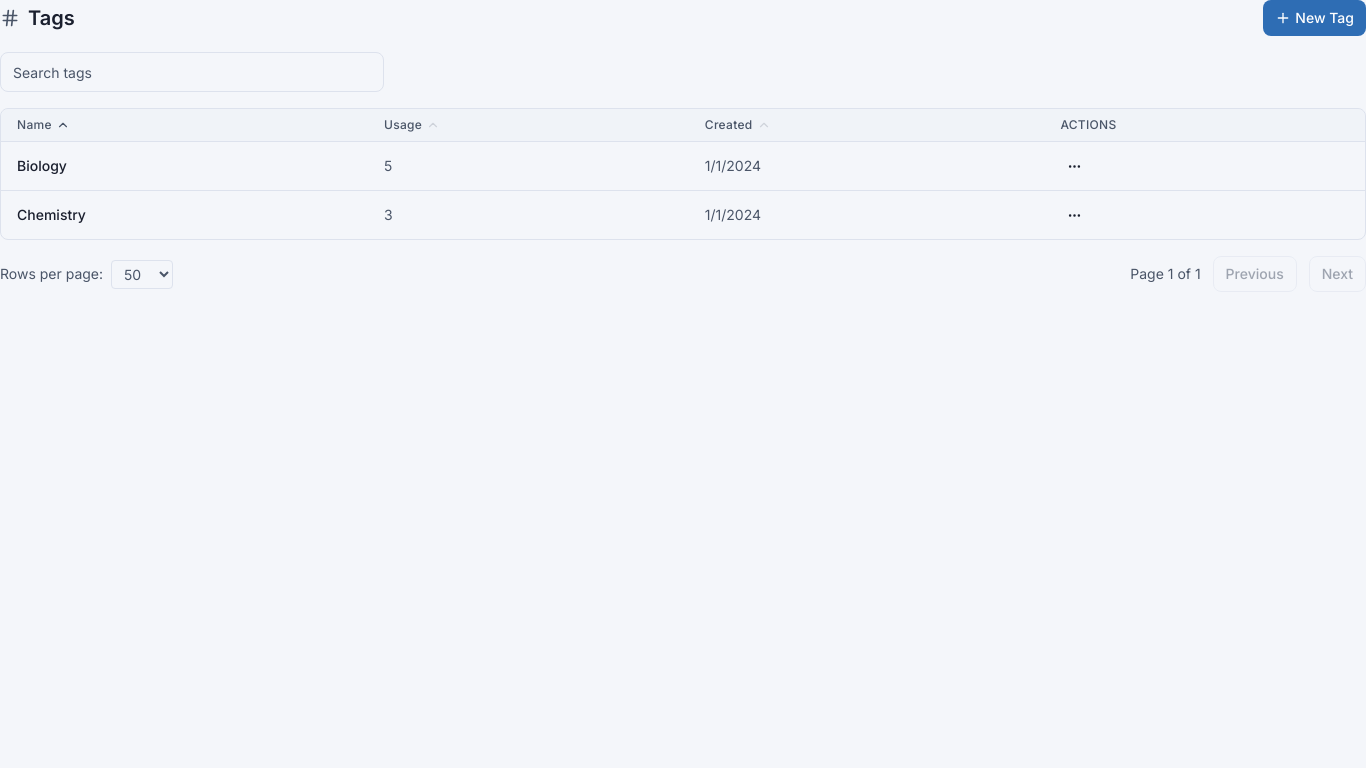
TagsPage › shows inline form error for ERR_TAG_DUPLICATE on rename
Expected: the text "Biology" is shown, top-left (1, 142), bottom-right (368, 190)
# Open actions menu
Click the button named "actions" in the row of "Biology". click: [1074, 166]
box: top-left (1060, 152), bottom-right (1088, 180)
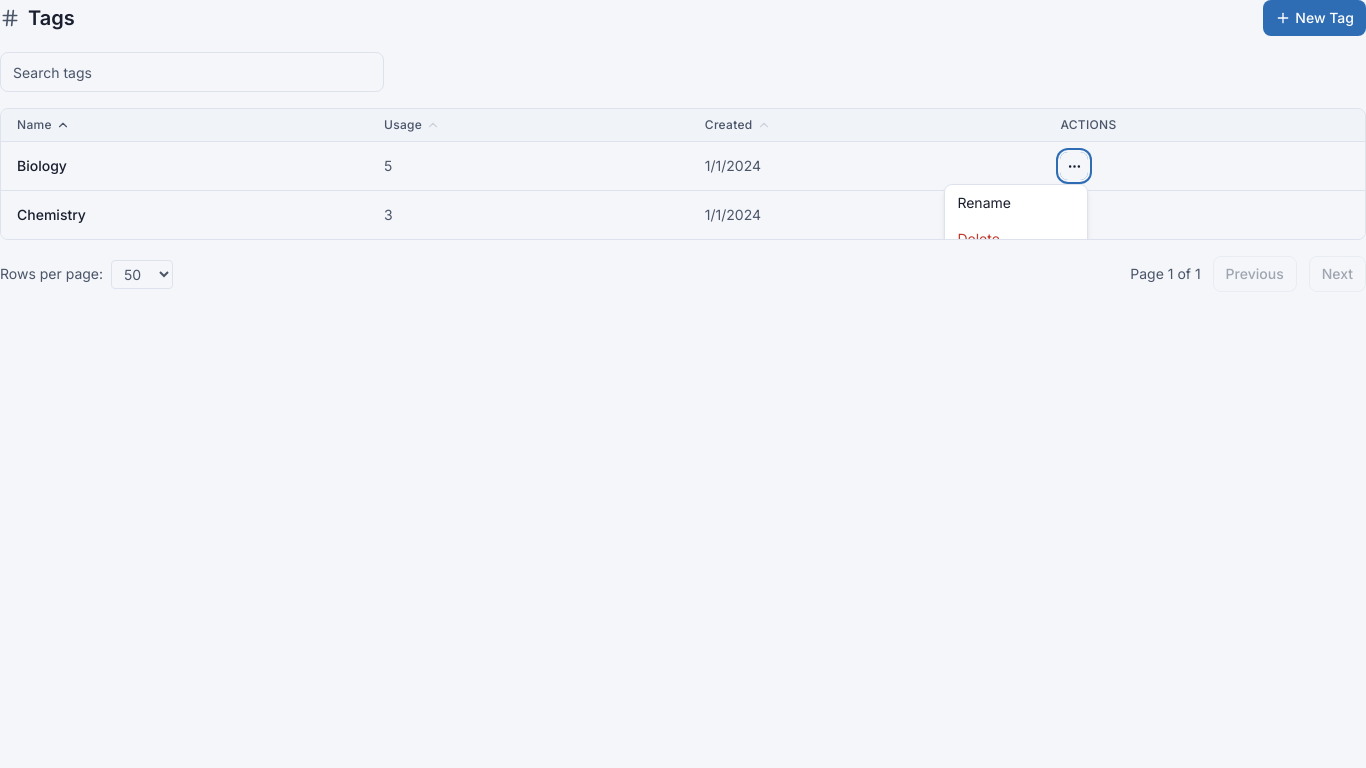
# Click Rename
Click the button "Rename". click: [1016, 203]
box: top-left (945, 185), bottom-right (1087, 221)
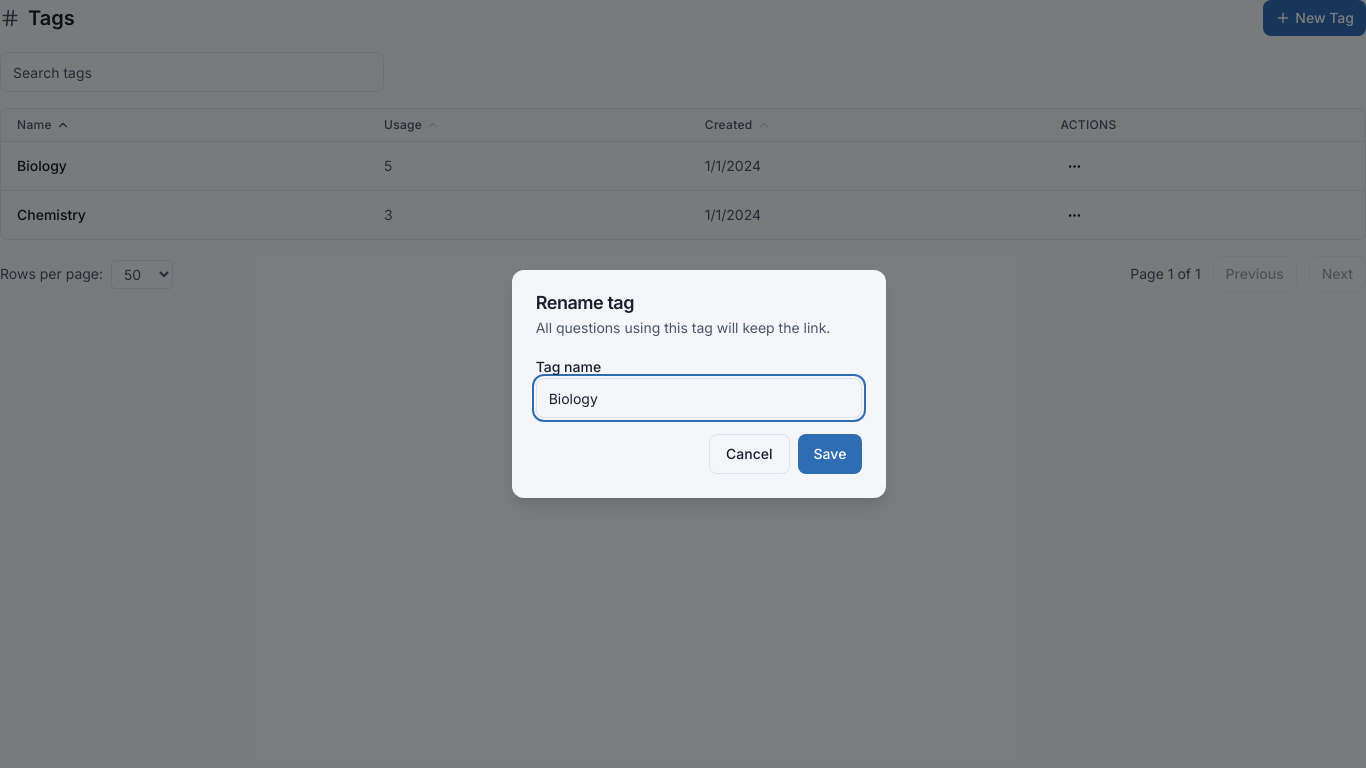
# Clear and type duplicate name
Replace the text in the field labelled "Tag name" with "chemistry". click: [699, 398]
box: top-left (536, 378), bottom-right (862, 418)
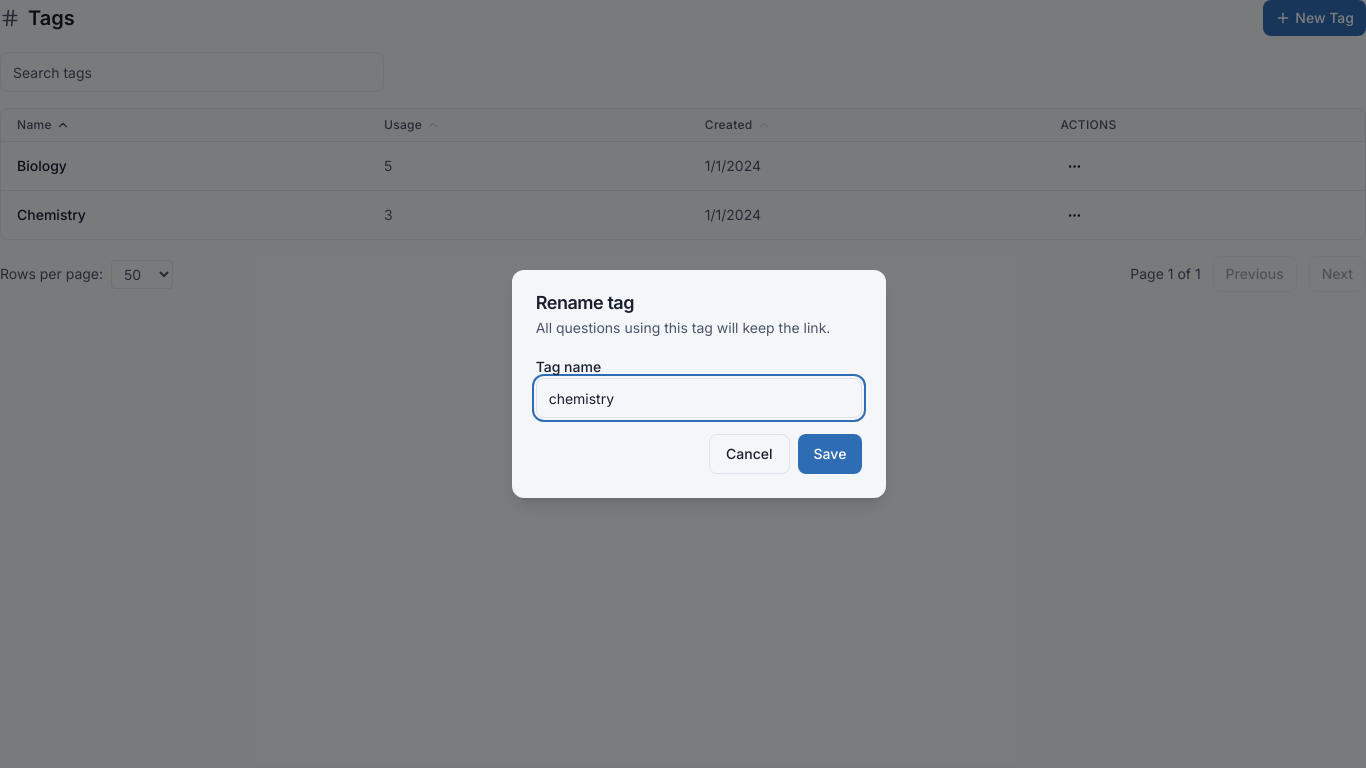
Click the button "Save". click: [830, 454]
box: top-left (798, 434), bottom-right (862, 474)
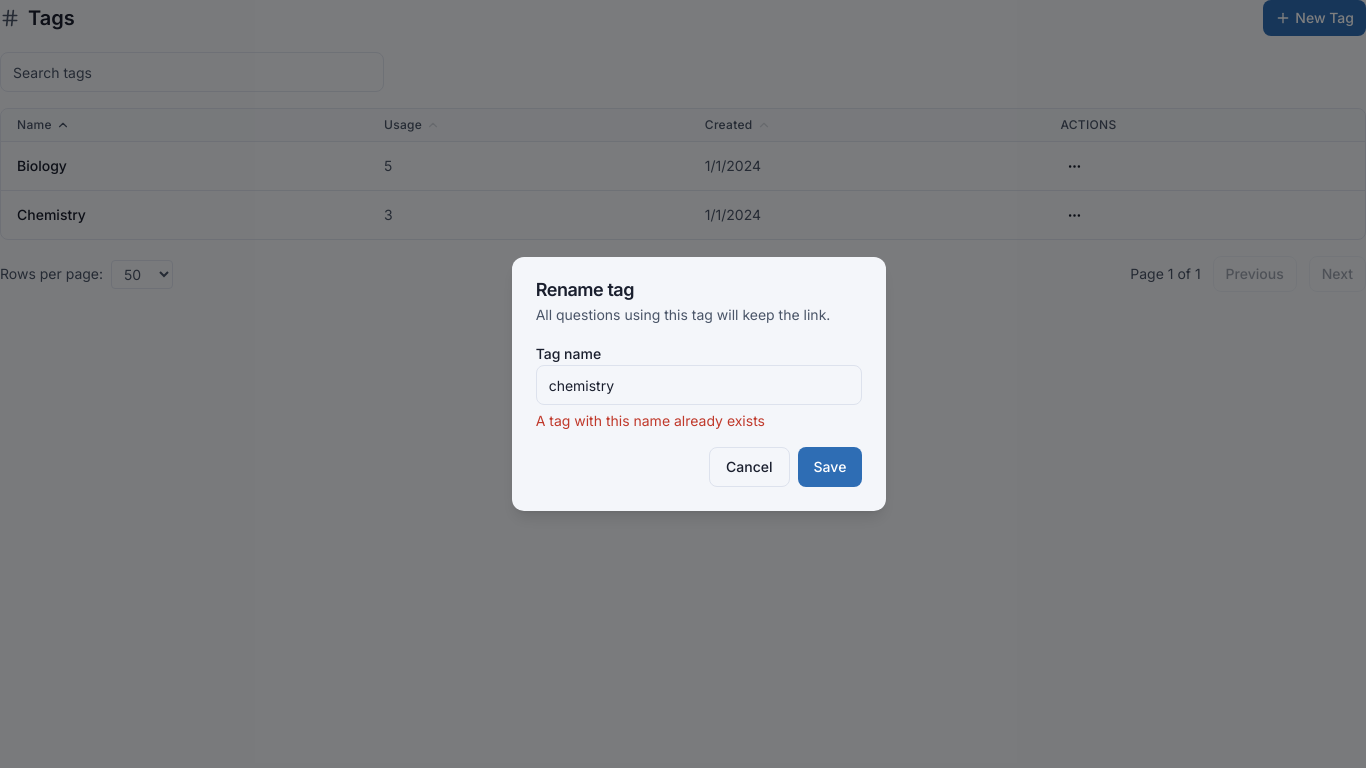
Now the text "A tag with this name already exists" is shown, box top-left (536, 412), bottom-right (765, 429)
